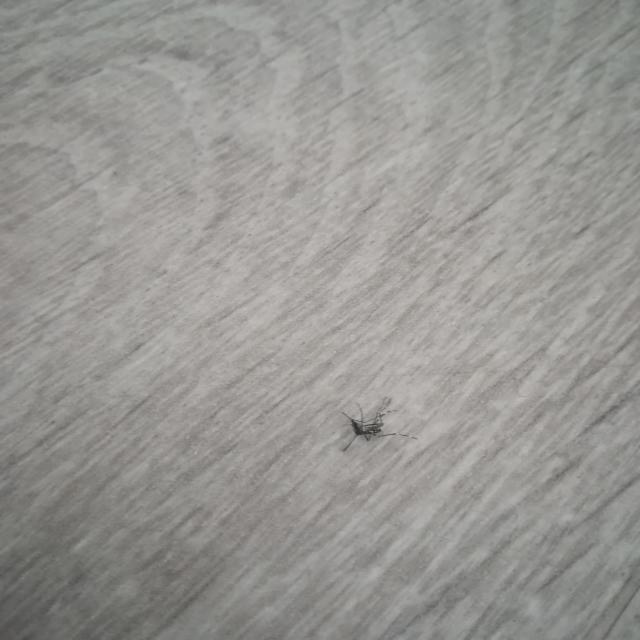albopictus: (336, 391, 416, 453)
